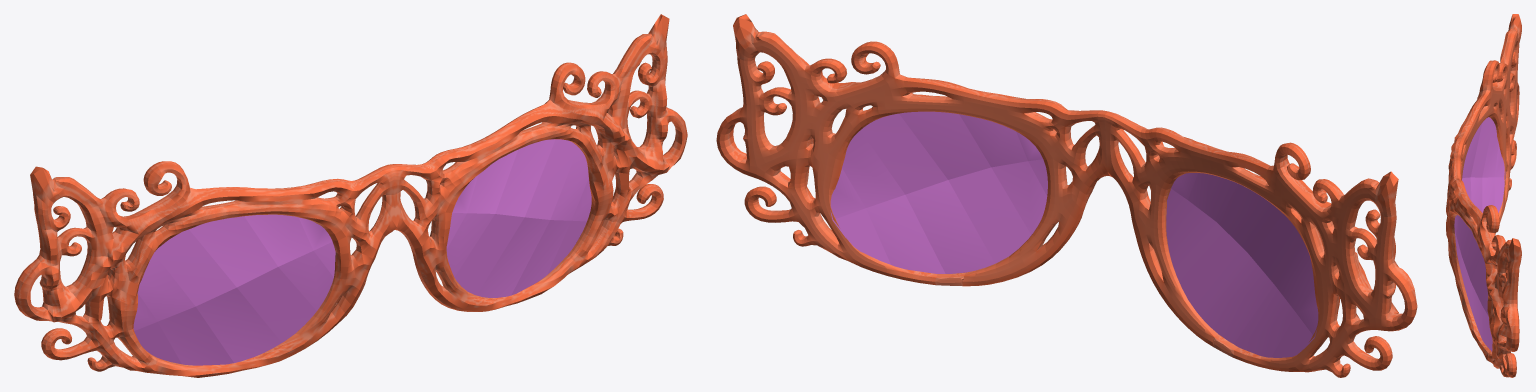
File: Oculus01.fbx
3 renders of one model, left to right at view 1: azimuth 30°, elevation 25°; view 2: azimuth 150°, elevation 25°; view 3: azimuth 270°, elevation 25°, orthographic. The views are drawn at different scales.
Visible parts, largest first — view 1: Oculus01, Lente; view 2: Oculus01, Lente; view 3: Oculus01, Lente.
Boxes of the visible parts, x1,y1,x2,y2 form: Oculus01: (14, 14, 687, 377); Lente: (133, 139, 591, 365); Oculus01: (716, 14, 1417, 377); Lente: (830, 111, 1318, 357); Oculus01: (1446, 14, 1521, 377); Lente: (1454, 117, 1505, 351).
Bounding box in the file's own units: 6.65 × 2.2 × 0.8801.
